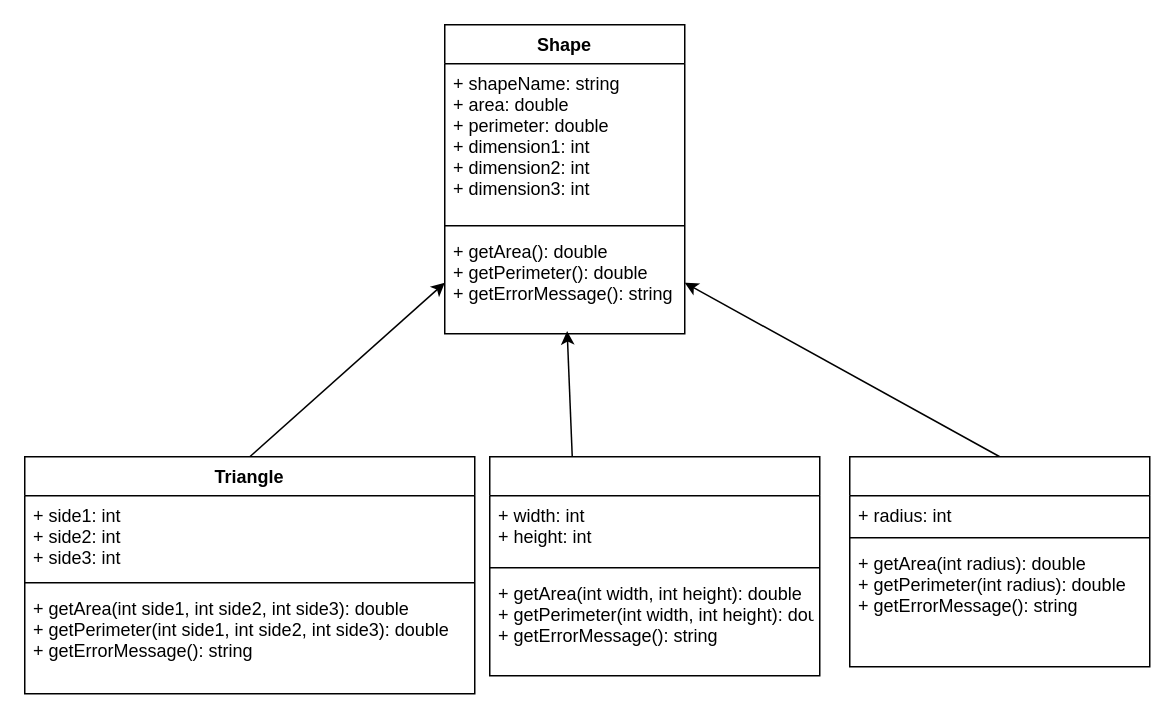
This 1175x719 diagram has some shape labels left out. Here are the shapes that lost their labels. From the top down, the box of each, then its label:
(488, 455, 820, 676): Rectangle
(848, 455, 1150, 667): Circle
